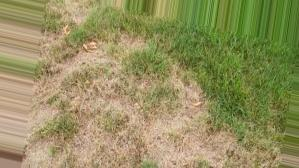patch: (74, 101, 100, 159), (116, 131, 157, 161), (165, 130, 186, 164), (33, 108, 60, 129), (41, 145, 65, 162), (96, 85, 122, 100), (120, 104, 138, 123)
